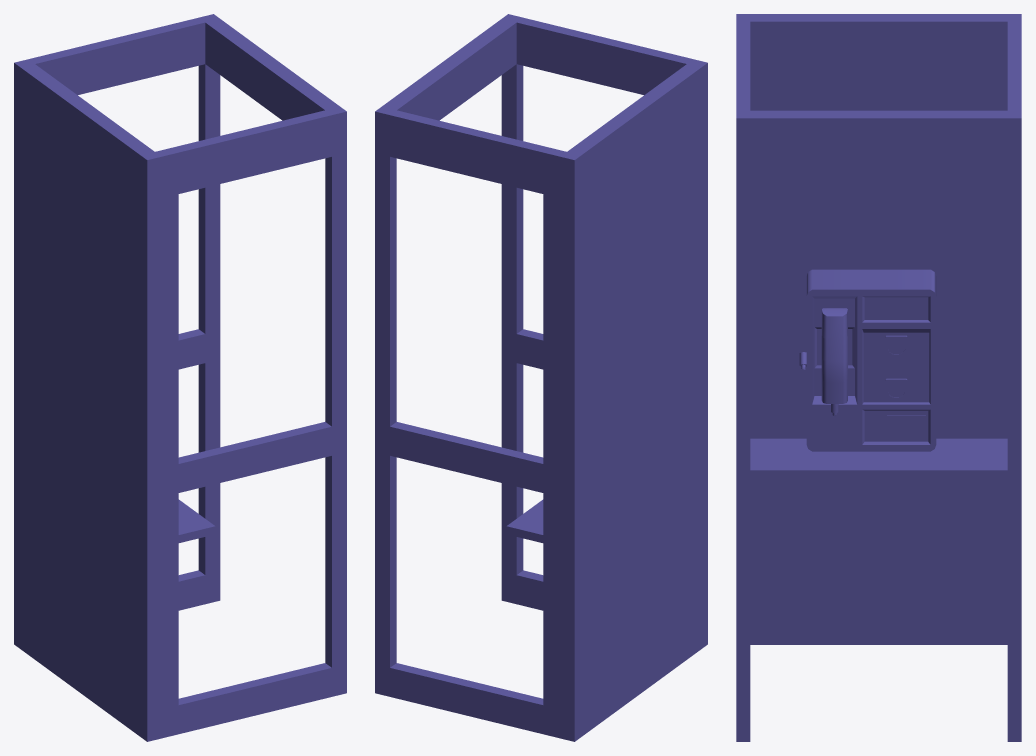
File: Pause_Set01_PayPhoneBooth_v01.fbx
3 views of the same model, side by side, from view 1: azimuth 30°, elevation 25°; view 2: azimuth 150°, elevation 25°; view 3: azimuth 270°, elevation 25° (orthographic). The views are drawn at different scales.
Visible parts, largest first — view 1: Pause_PayPhone_Booth; view 2: Pause_PayPhone_Booth; view 3: Pause_PayPhone_Booth, Pause_PayPhone_Box, Pause_PayPhone_Phone, Pause_PayPhone, Pause_PayPhone_CoinReturn.
Boxes of the visible parts, bbox=[...] form: Pause_PayPhone_Booth: bbox=[14, 14, 346, 741]; Pause_PayPhone_Booth: bbox=[375, 14, 707, 741]; Pause_PayPhone_Booth: bbox=[736, 14, 1021, 741]; Pause_PayPhone_Box: bbox=[806, 269, 936, 451]; Pause_PayPhone_Phone: bbox=[821, 308, 847, 403]; Pause_PayPhone: bbox=[885, 335, 907, 399]; Pause_PayPhone_CoinReturn: bbox=[887, 415, 925, 435].
Size of the model in its own units: 42.42 by 118 by 49.03.
